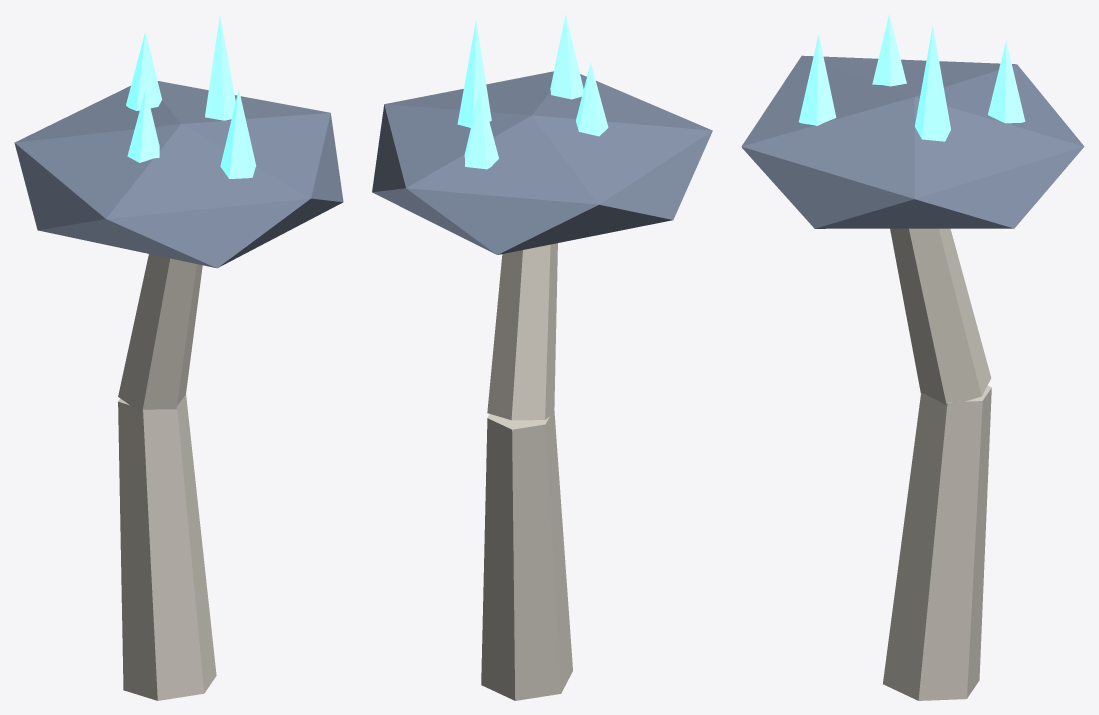
Rendered from arv_fungo_cristal_2_sem_textura.glb.
3 renders of one model, left to right at view 1: azimuth 30°, elevation 25°; view 2: azimuth 150°, elevation 25°; view 3: azimuth 270°, elevation 25°, orthographic. The views are drawn at different scales.
Parts seen in each view (by area): view 1: arv_fungo_cristal_2; view 2: arv_fungo_cristal_2; view 3: arv_fungo_cristal_2.
Part boxes in pixels (box(x1,y1,x2,y2)): arv_fungo_cristal_2: box(14, 14, 343, 700); arv_fungo_cristal_2: box(372, 14, 712, 700); arv_fungo_cristal_2: box(741, 14, 1084, 700).
Size of the model in its own units: 0.7703 by 1.66 by 0.75.
